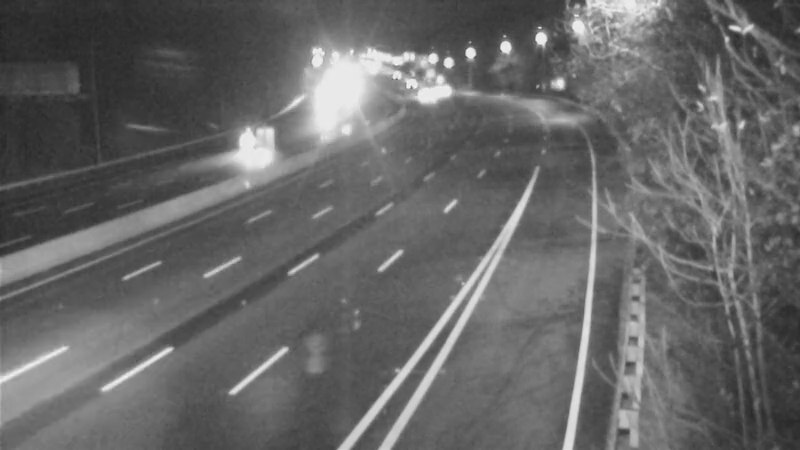vehicle: (381, 54, 431, 104), (416, 68, 466, 118), (399, 70, 449, 120), (226, 117, 276, 167)
